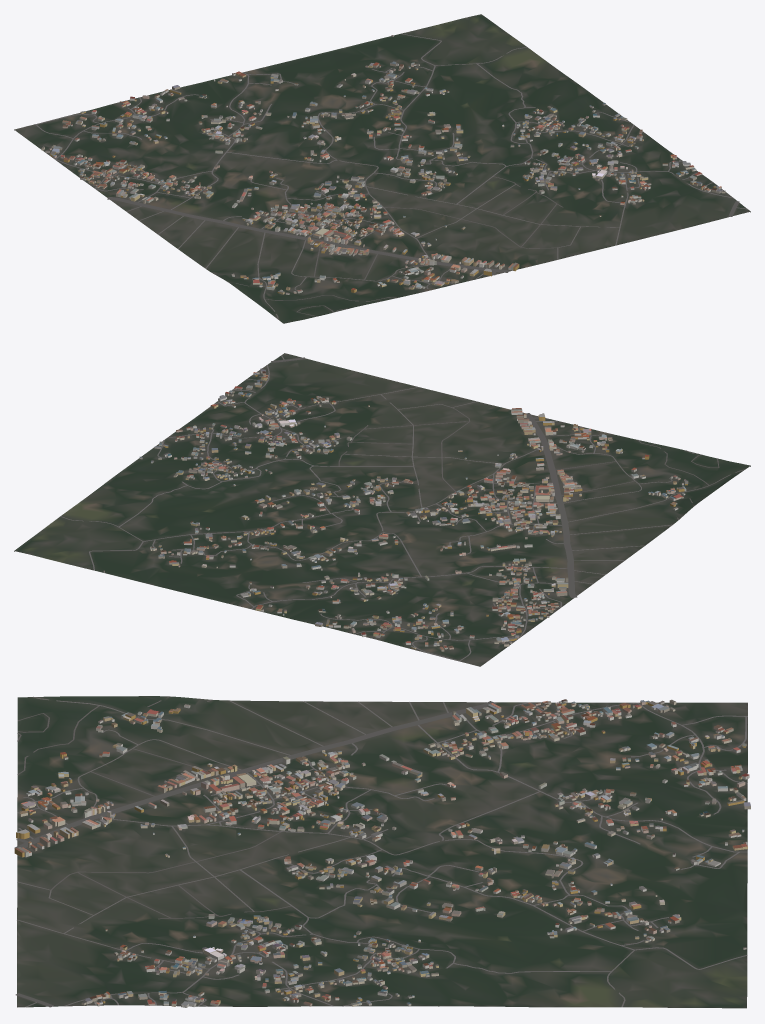
The picture shows the model from 3 angles, top to bottom: view 1: azimuth 30°, elevation 25°; view 2: azimuth 150°, elevation 25°; view 3: azimuth 270°, elevation 25°; orthographic projection. The views are drawn at different scales.
Parts seen in each view (by area): view 1: ground, buildings, roads; view 2: ground, buildings, roads; view 3: ground, buildings, roads.
Boxes of the visible parts, x1,y1,x2,y2 form: ground: (14, 14, 750, 323); buildings: (41, 35, 725, 294); roads: (35, 33, 747, 319); ground: (14, 353, 750, 666); buildings: (103, 368, 688, 651); roads: (60, 355, 745, 661); ground: (17, 696, 747, 1008); buildings: (14, 699, 750, 1007); roads: (14, 696, 747, 1007).
Bounding box in the file's own units: 1410 × 20.74 × 1415.
